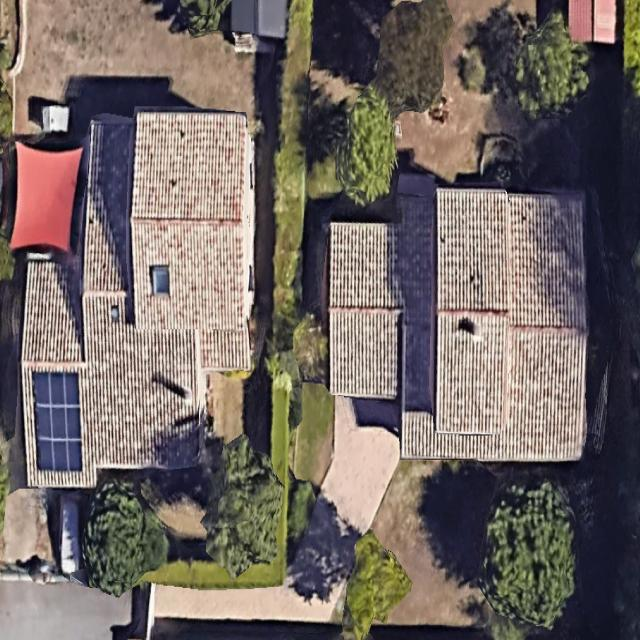maison: (10, 107, 256, 489), (325, 174, 591, 461)
